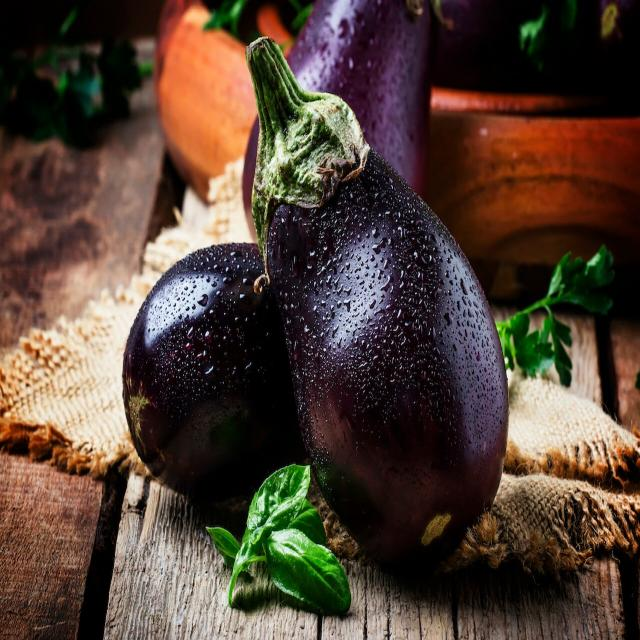eggplant: (235, 26, 534, 568)
